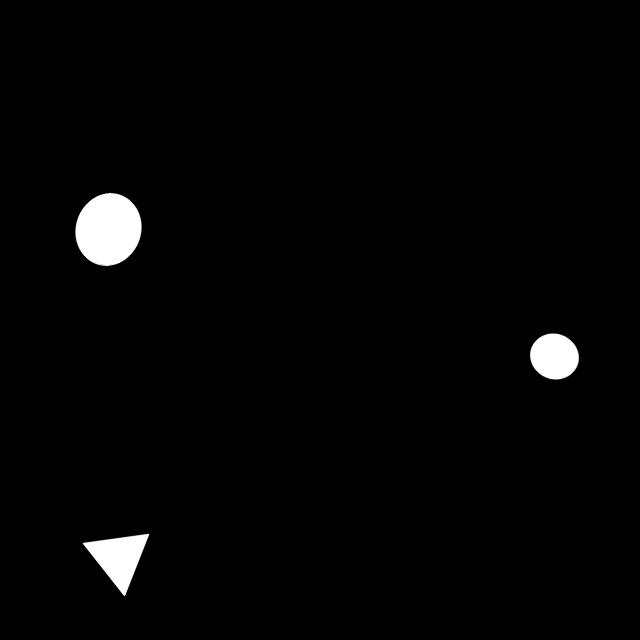Circle: (65, 186, 152, 280), (520, 320, 589, 400)
Triangle: (69, 518, 162, 611)
